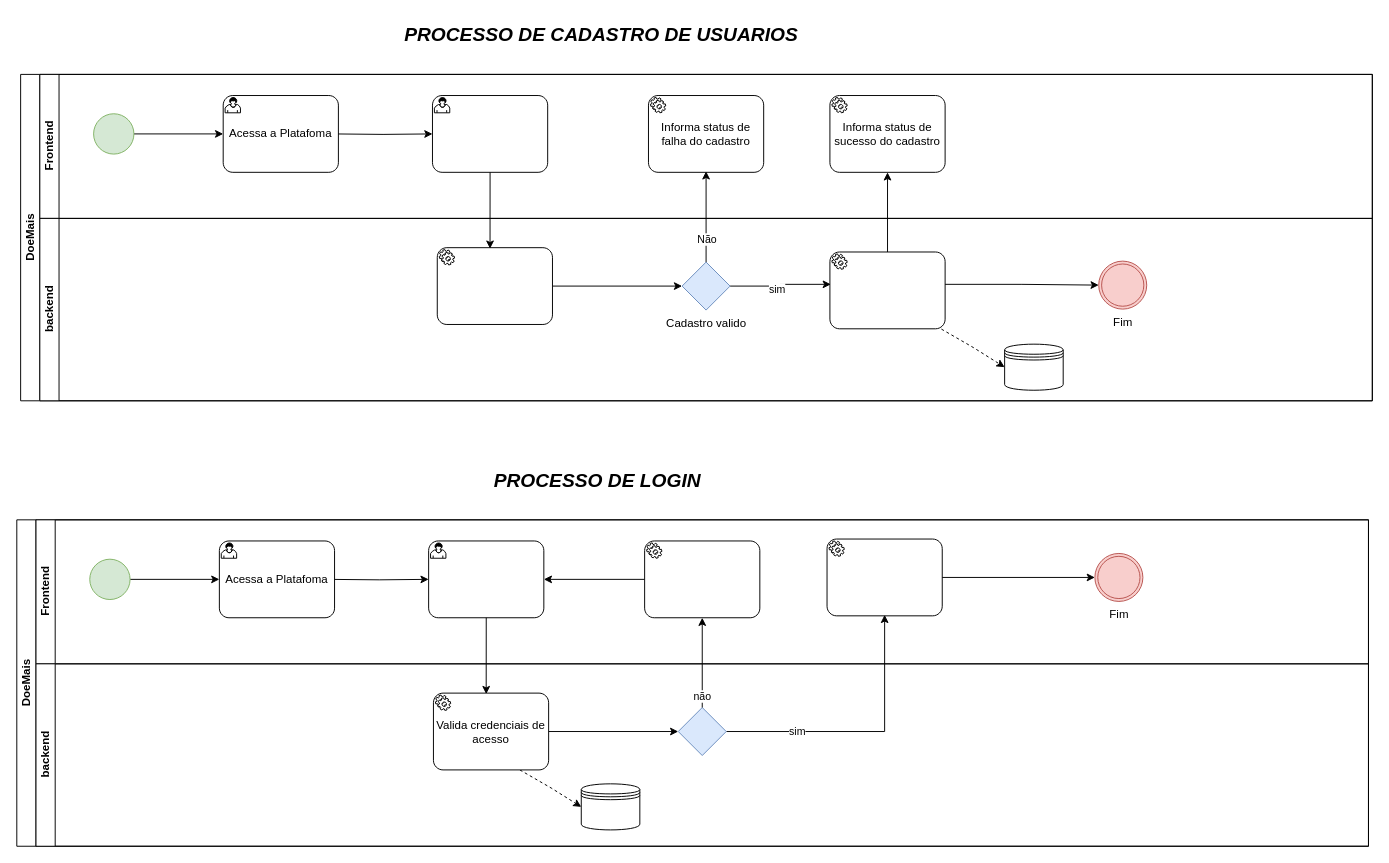
Some shapes in this 1389 by 863 pixel diagram are drawn without their labels. The centre of each missing label's shape, as x and y in pixels:
Acesso Valido: point 701,731
Informa falha no 4l ogin: point 702,579
Realiza cadastro: point 490,133
Realiza login: point 486,579
Redireciona usuário para Home: point 884,577
Salva informações do cadastro no banco de dados: point 887,290
Valida informações: point 494,285
